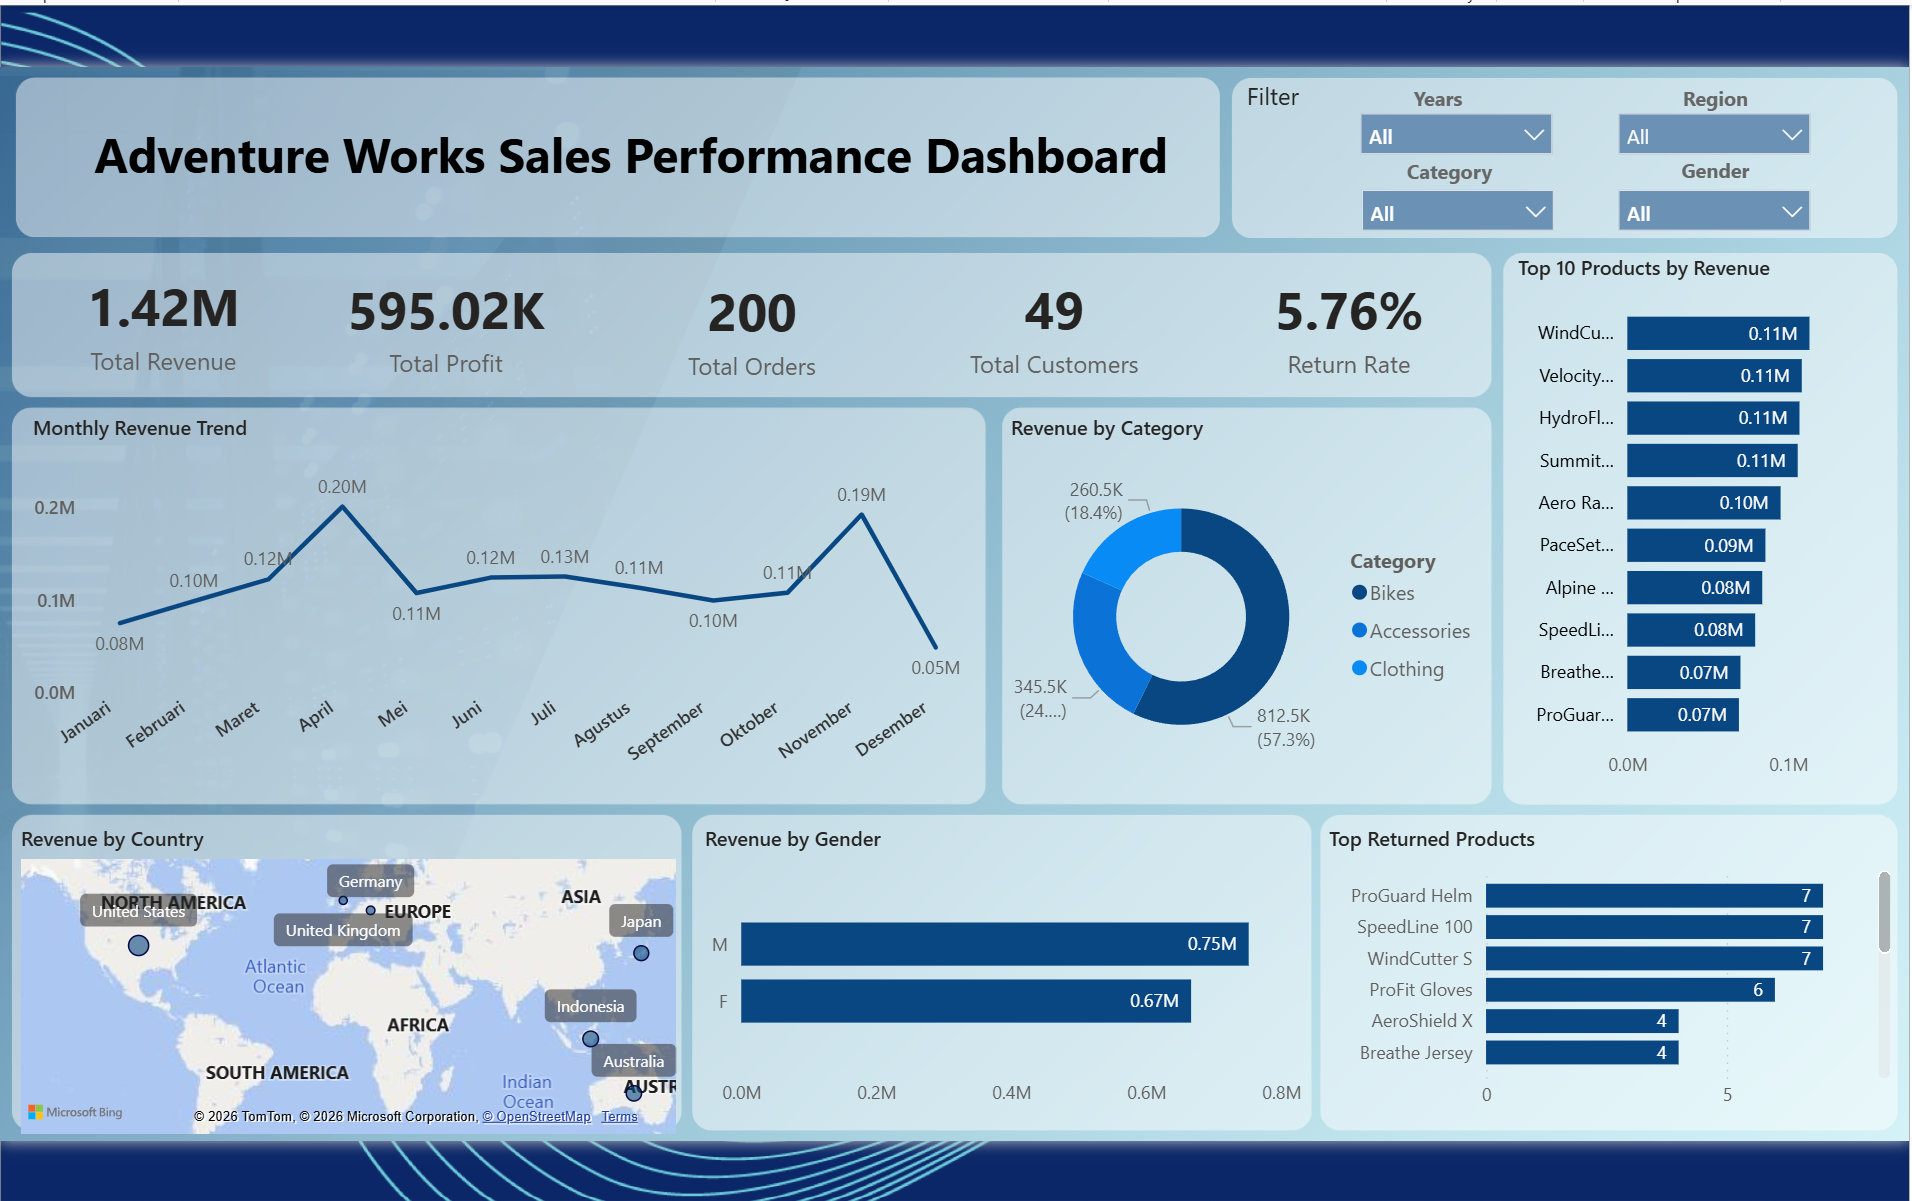

The page's visual inventory and layout, read from the dashboard file:
{"tool":"powerbi","page":{"name":"Page 1","canvas":[1280,720],"ordinal":0},"visuals":[{"type":"card","fields":{"Values":["Measure.Total Revenue"]},"box":[29.1,133.7,159.9,74.2],"z":0},{"type":"card","fields":{"Values":["Measure.Total Profit"]},"box":[225.3,134.8,146.8,75.4],"z":1000},{"type":"card","fields":{"Values":["Measure.Total Orders"]},"box":[417.4,125.7,173,96.6],"z":2000},{"type":"card","fields":{"Values":["Measure.Total Customers"]},"box":[625.6,124.7,161.9,96.6],"z":3000},{"type":"card","fields":{"Values":["Measure.Return Rate"]},"box":[807.6,124.7,193.1,96.6],"z":4000},{"type":"lineChart","title":"Monthly Revenue Trend","fields":{"Y":["Measure.Total Revenue"],"Category":["Calendar.Date.Variation.Hierarki Tanggal.Bulan"]},"box":[17.5,232.5,635,253.8],"z":5000},{"type":"clusteredBarChart","title":"Top 10 Products by Revenue","fields":{"Y":["Measure.Total Revenue"],"Category":["Products.ProductName"]},"box":[1012.5,125,258.8,361.2],"z":6000},{"type":"donutChart","title":"Revenue by Category","fields":{"Category":["Products.Category"],"Y":["Measure.Total Revenue"]},"box":[672.5,232.5,327.5,253.8],"z":7000},{"type":"map","title":"Revenue by Country","fields":{"Category":["Territories.Country"],"Size":["Measure.Total Revenue"]},"box":[8.8,507.5,448.8,212.5],"z":8000},{"type":"clusteredBarChart","title":"Revenue by Gender","fields":{"Y":["Measure.Total Revenue"],"Category":["Customers.Gender"]},"box":[467.5,507.5,410,197.5],"z":9000},{"type":"barChart","title":"Top Returned Products","fields":{"Y":["Measure.Total Returns"],"Category":["Products.ProductName"]},"box":[886.2,507.5,386.2,198.8],"z":10000},{"type":"slicer","fields":{"Values":["Calendar.Date.Variation.Hierarki Tanggal.Tahun"]},"box":[902.2,21.1,148.9,50],"z":11000},{"type":"slicer","fields":{"Values":["Territories.Country"]},"box":[1075.6,21.1,148.9,51.1],"z":12000},{"type":"slicer","fields":{"Values":["Products.Category"]},"box":[903.3,72.2,148.9,38.9],"z":13000},{"type":"slicer","fields":{"Values":["Customers.Gender"]},"box":[1075.6,72.2,148.9,38.9],"z":14000},{"type":"textbox","box":[790,3.3,127.8,35.6],"z":15000},{"type":"textbox","box":[23.3,31.1,800,61.1],"z":16000},{"type":"textbox","box":[936.7,5.6,55.6,33.3],"z":17000},{"type":"textbox","box":[1122.2,54.4,55.6,33.3],"z":18000},{"type":"textbox","box":[931.1,55.6,81.1,33.3],"z":19000},{"type":"textbox","box":[1122.2,5.6,55.6,33.3],"z":20000}]}

Visuals, with their boxes on the page's 1280x720 design canvas (x1, y1, x2, y2). These are canvas units, not pixel positions in the 1912x1201 screenshot, which may show the page scaled, cropped or inside an application window:
card - Measure.Total Revenue: (left=29, top=134, right=189, bottom=208)
card - Measure.Total Profit: (left=225, top=135, right=372, bottom=210)
card - Measure.Total Orders: (left=417, top=126, right=590, bottom=222)
card - Measure.Total Customers: (left=626, top=125, right=788, bottom=221)
card - Measure.Return Rate: (left=808, top=125, right=1001, bottom=221)
"Monthly Revenue Trend" lineChart: (left=18, top=232, right=652, bottom=486)
"Top 10 Products by Revenue" clusteredBarChart: (left=1012, top=125, right=1271, bottom=486)
"Revenue by Category" donutChart: (left=672, top=232, right=1000, bottom=486)
"Revenue by Country" map: (left=9, top=508, right=458, bottom=720)
"Revenue by Gender" clusteredBarChart: (left=468, top=508, right=878, bottom=705)
"Top Returned Products" barChart: (left=886, top=508, right=1272, bottom=706)
slicer - Calendar.Date.Variation.Hierarki Tanggal.Tahun: (left=902, top=21, right=1051, bottom=71)
slicer - Territories.Country: (left=1076, top=21, right=1224, bottom=72)
slicer - Products.Category: (left=903, top=72, right=1052, bottom=111)
slicer - Customers.Gender: (left=1076, top=72, right=1224, bottom=111)
textbox: (left=790, top=3, right=918, bottom=39)
textbox: (left=23, top=31, right=823, bottom=92)
textbox: (left=937, top=6, right=992, bottom=39)
textbox: (left=1122, top=54, right=1178, bottom=88)
textbox: (left=931, top=56, right=1012, bottom=89)
textbox: (left=1122, top=6, right=1178, bottom=39)
